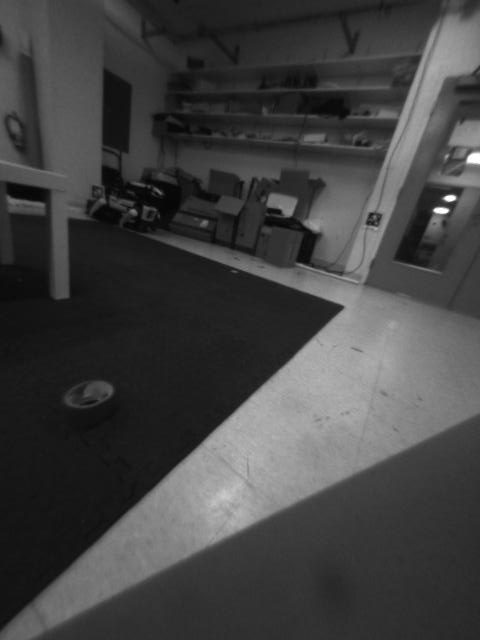dogtoy: (39, 370, 127, 425)
